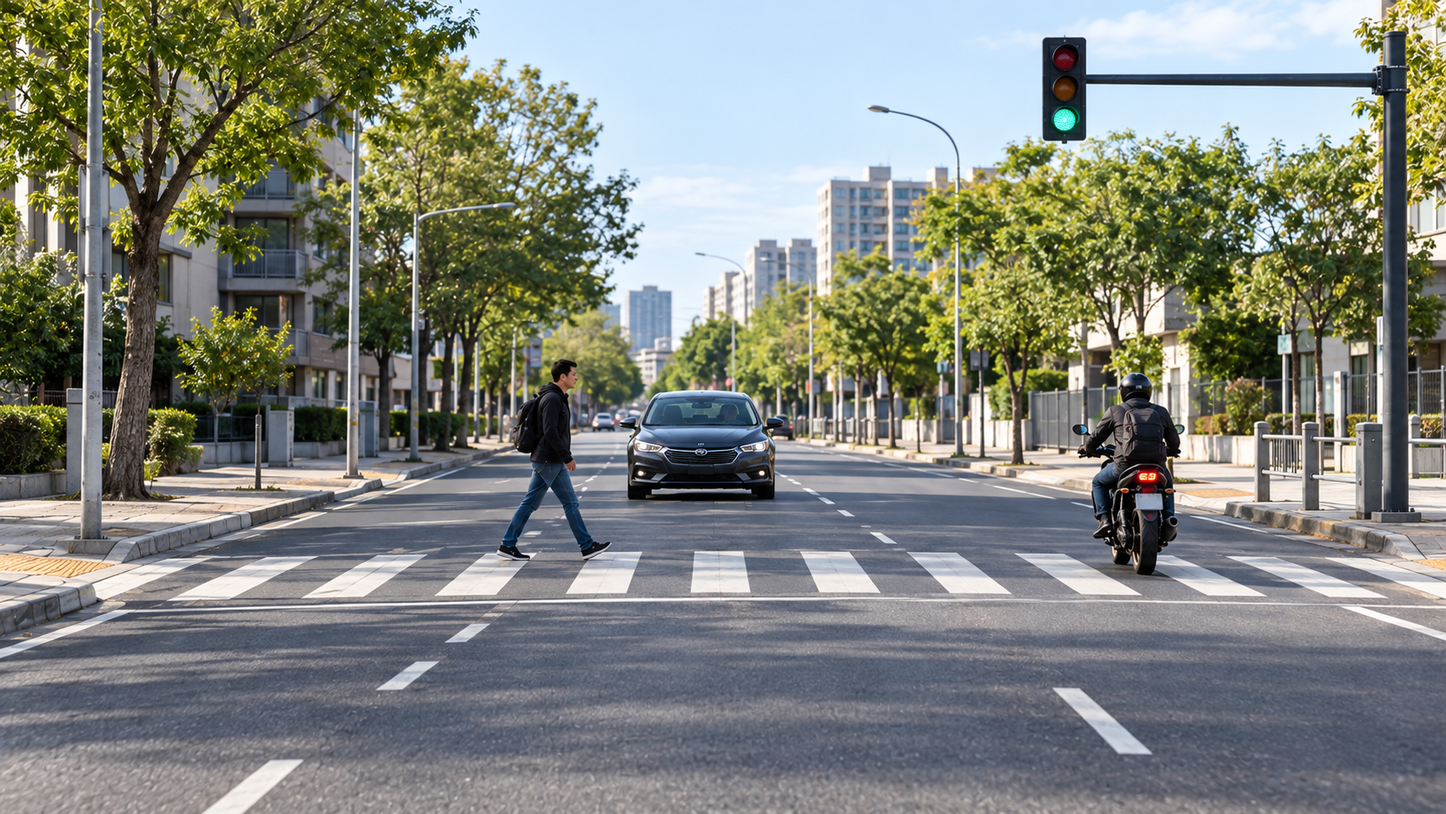car: (631, 389, 777, 502)
motorcycle: (1071, 467, 1193, 576)
person: (497, 359, 611, 562), (1081, 373, 1185, 514)
traffic_light: (1041, 35, 1087, 145)
zebra_crossing: (0, 545, 1445, 623)
